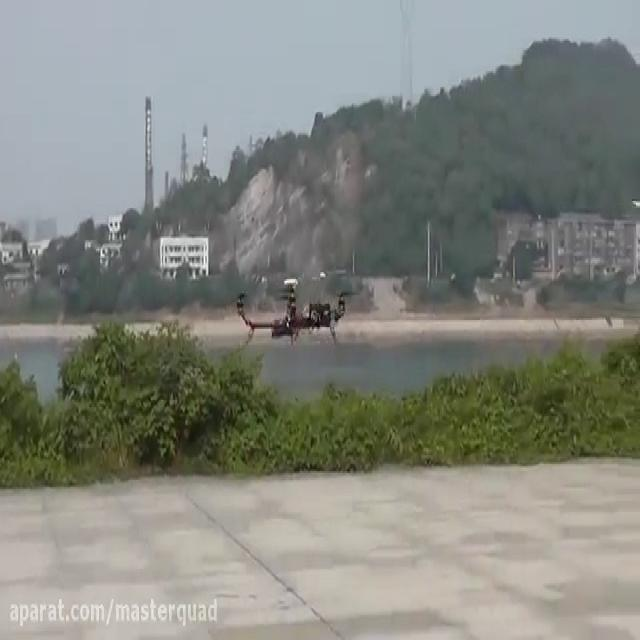drone: (231, 268, 362, 346)
